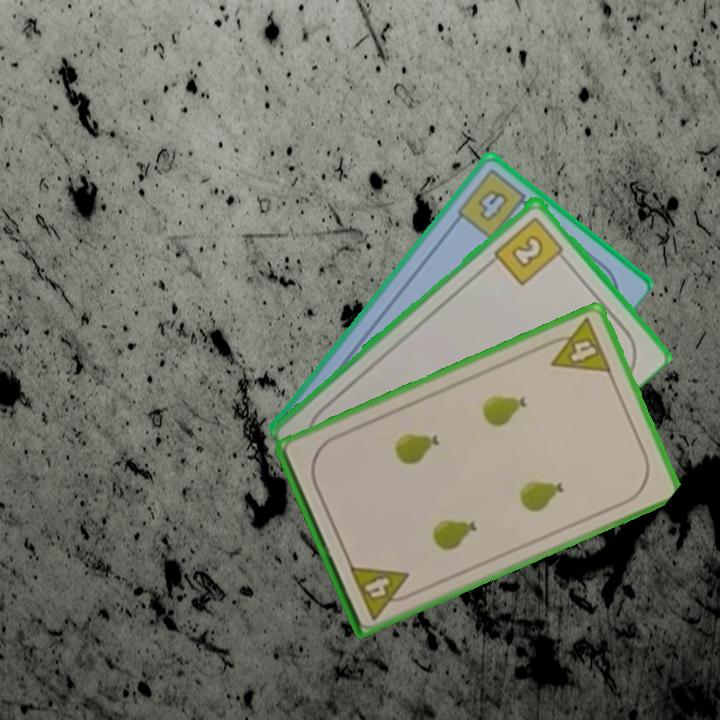2b: (490, 212, 570, 288)
4b: (452, 165, 535, 242)
4p: (539, 314, 615, 376), (345, 561, 418, 622)
